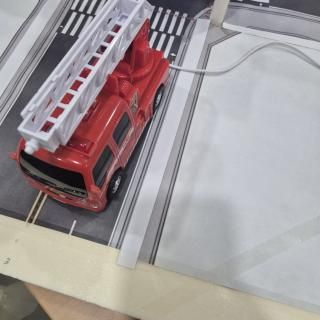Fire_truck: (10, 0, 169, 211)
